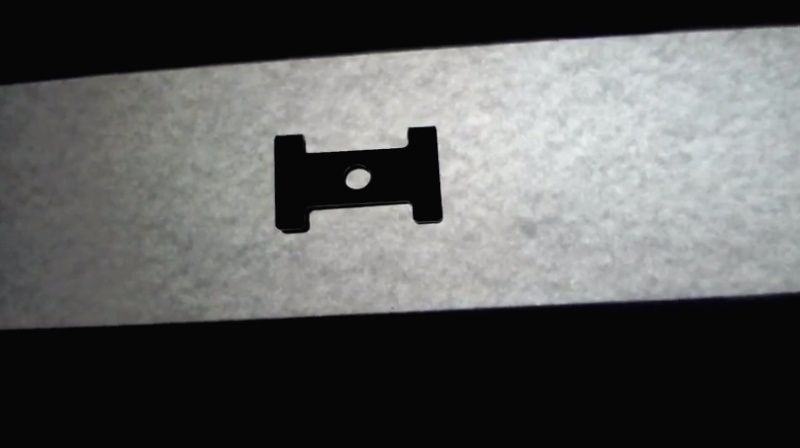O002: (267, 123, 445, 240)
